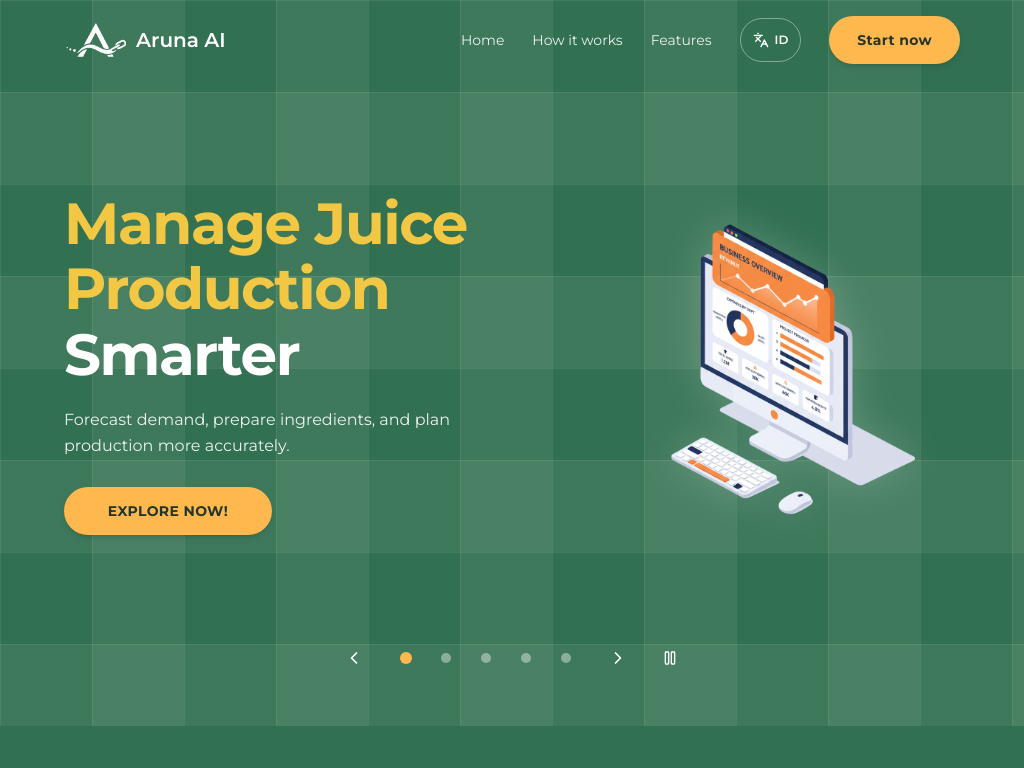
inventory landing page › can pause automatic rotation
Click the button named "Pause autoplay" at (670, 658), box [650,638,690,678]
Wait 6000 ms
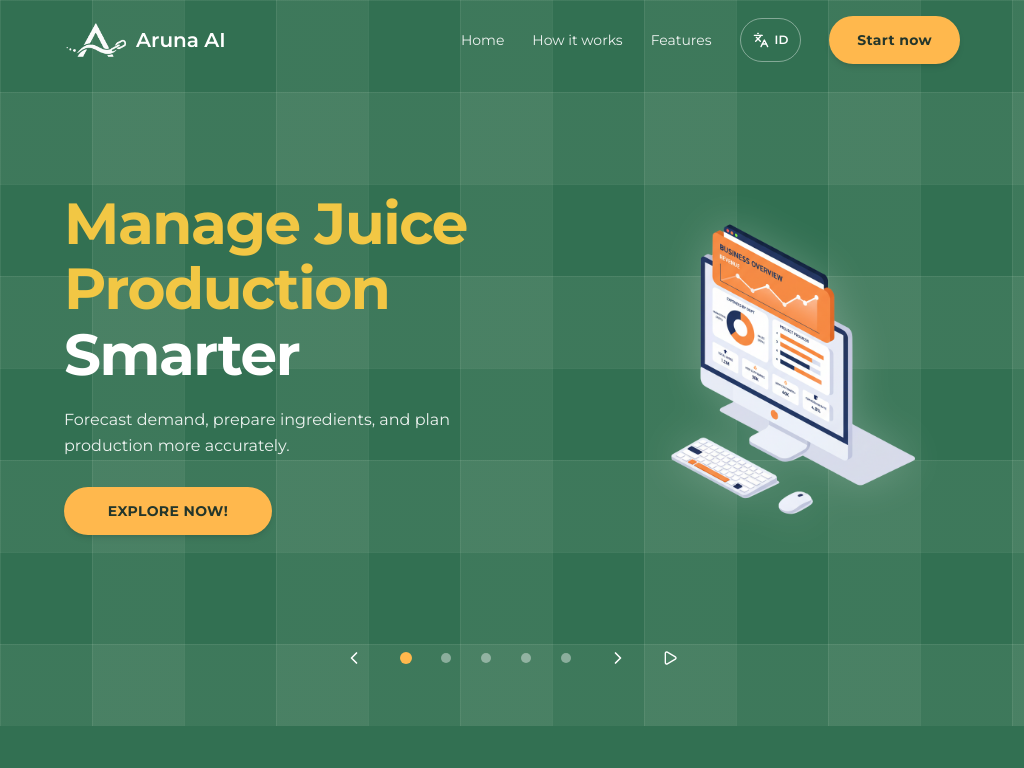
Expected: the heading shows "Manage Juice Production", [64,188,467,324]
Click the button named "Resume autoplay" at (670, 658), box [650,638,690,678]
Wait 5500 ms
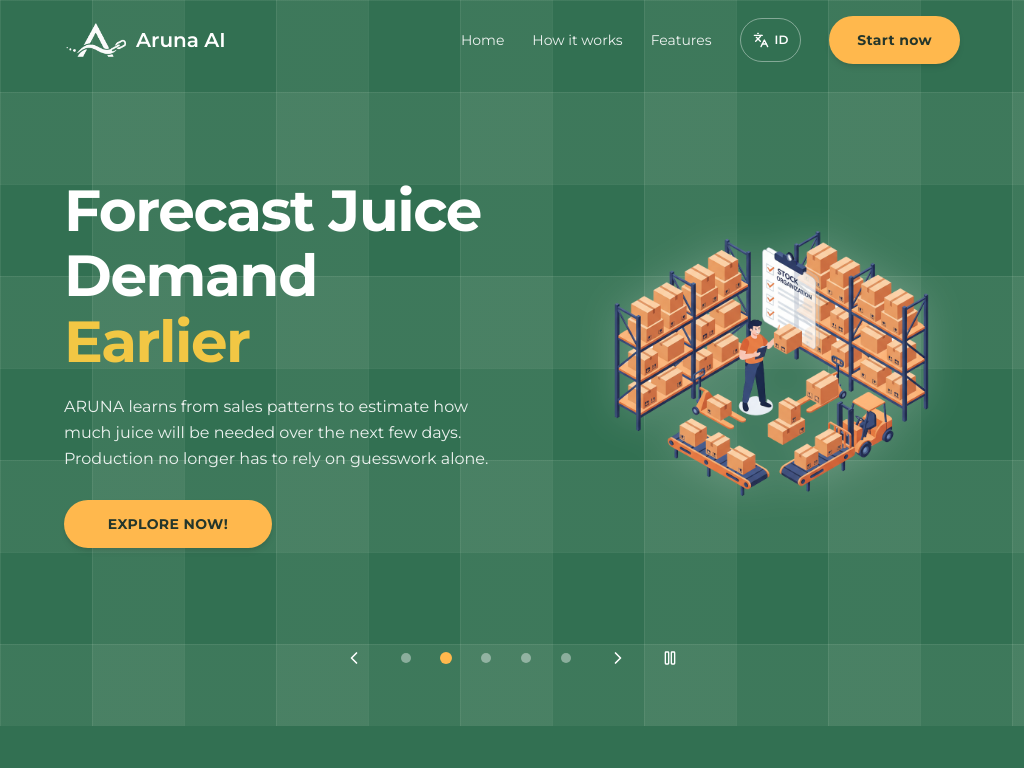
Expected: the heading shows "Forecast Juice Demand", [64,175,481,311]
